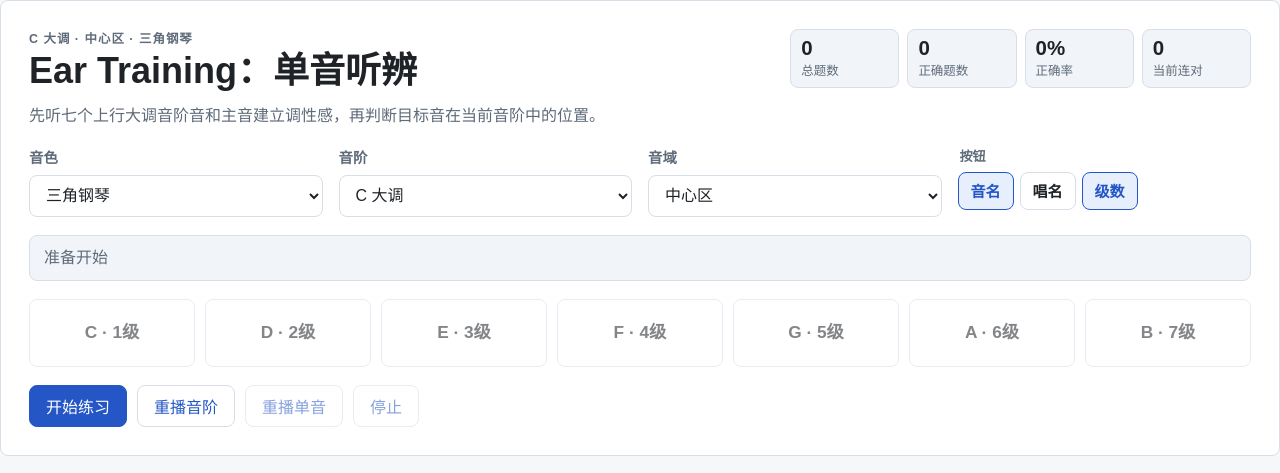
Test case: EarTrainingPage › 可在开始前切换音色和音域，并使用所选音域出题
This screenshot has width=1280, height=473.
Select "原声吉他" in the dropdown labelled "音色" at (176, 196), box [29,175,322,217]
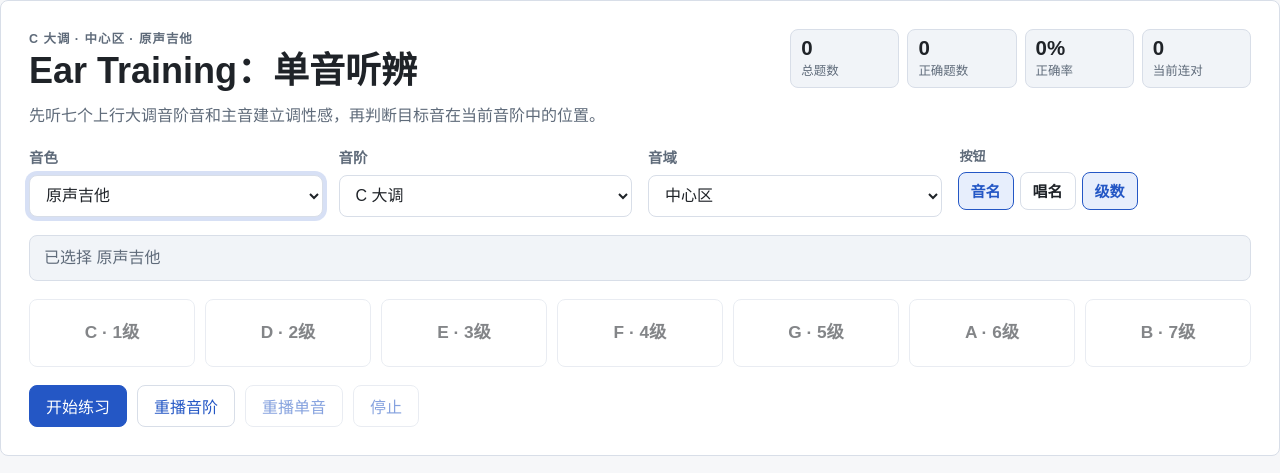
Select "Bb 大调" in the dropdown labelled "音阶" at (485, 196), box [338,175,632,217]
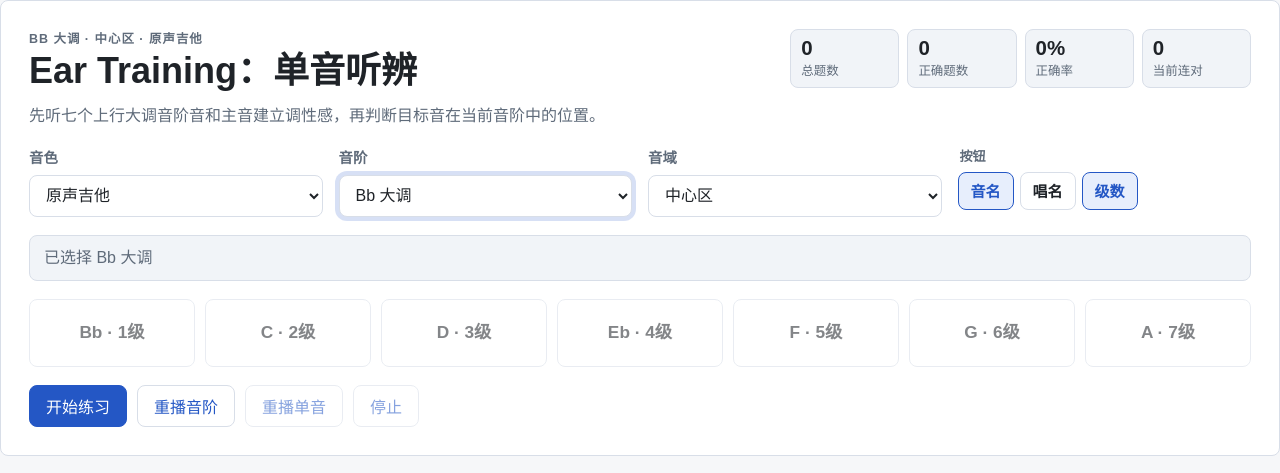
Select "高音区" in the dropdown labelled "音域" at (795, 196), box [648,175,942,217]
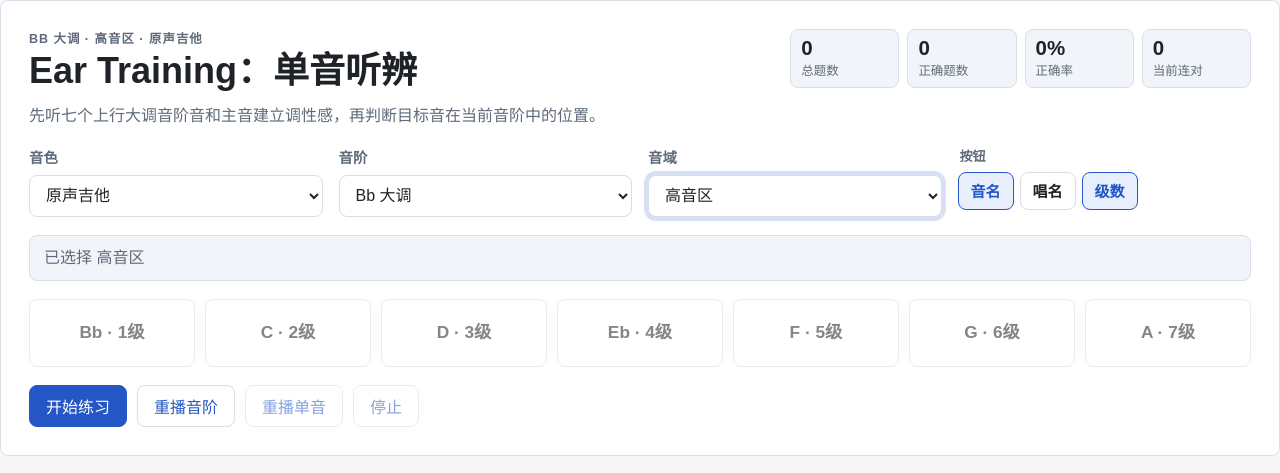
Expected: the button "Bb · 1级" is shown, [29,299,195,367]
Expected: the button "Eb · 4级" is shown, [557,299,723,367]
Expected: the message reads "已选择 高音区", [44,249,144,266]
Click the button "开始练习" at (78, 406), box [29,385,127,427]
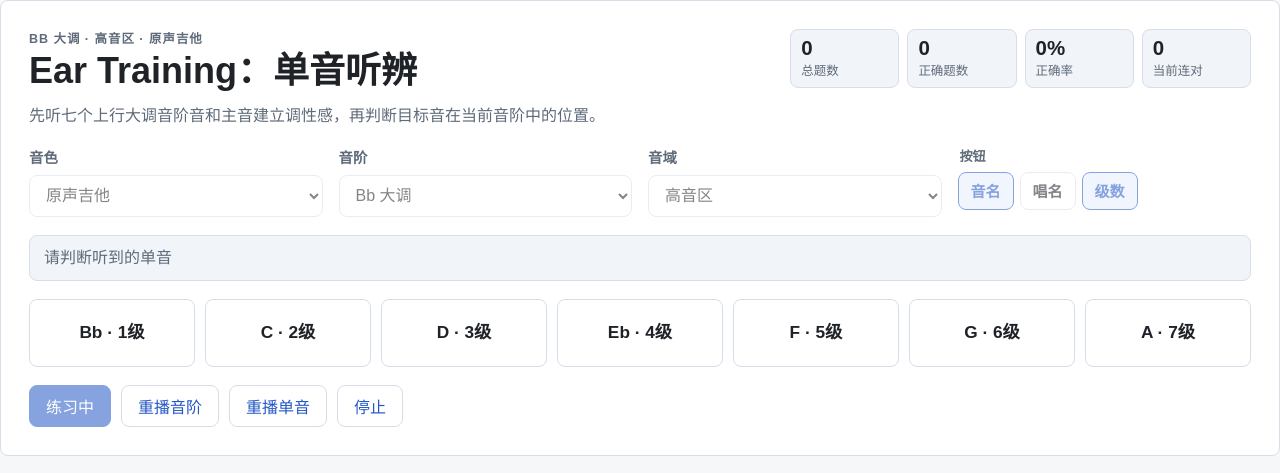
Expected: the text "请判断听到的单音" is shown, [29,235,1251,281]
